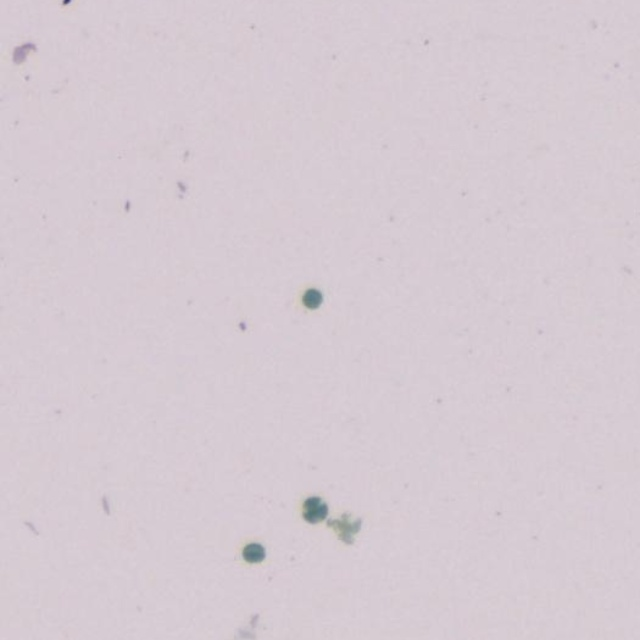non_viable: (302, 496, 327, 523), (243, 542, 265, 562), (301, 288, 322, 308)
